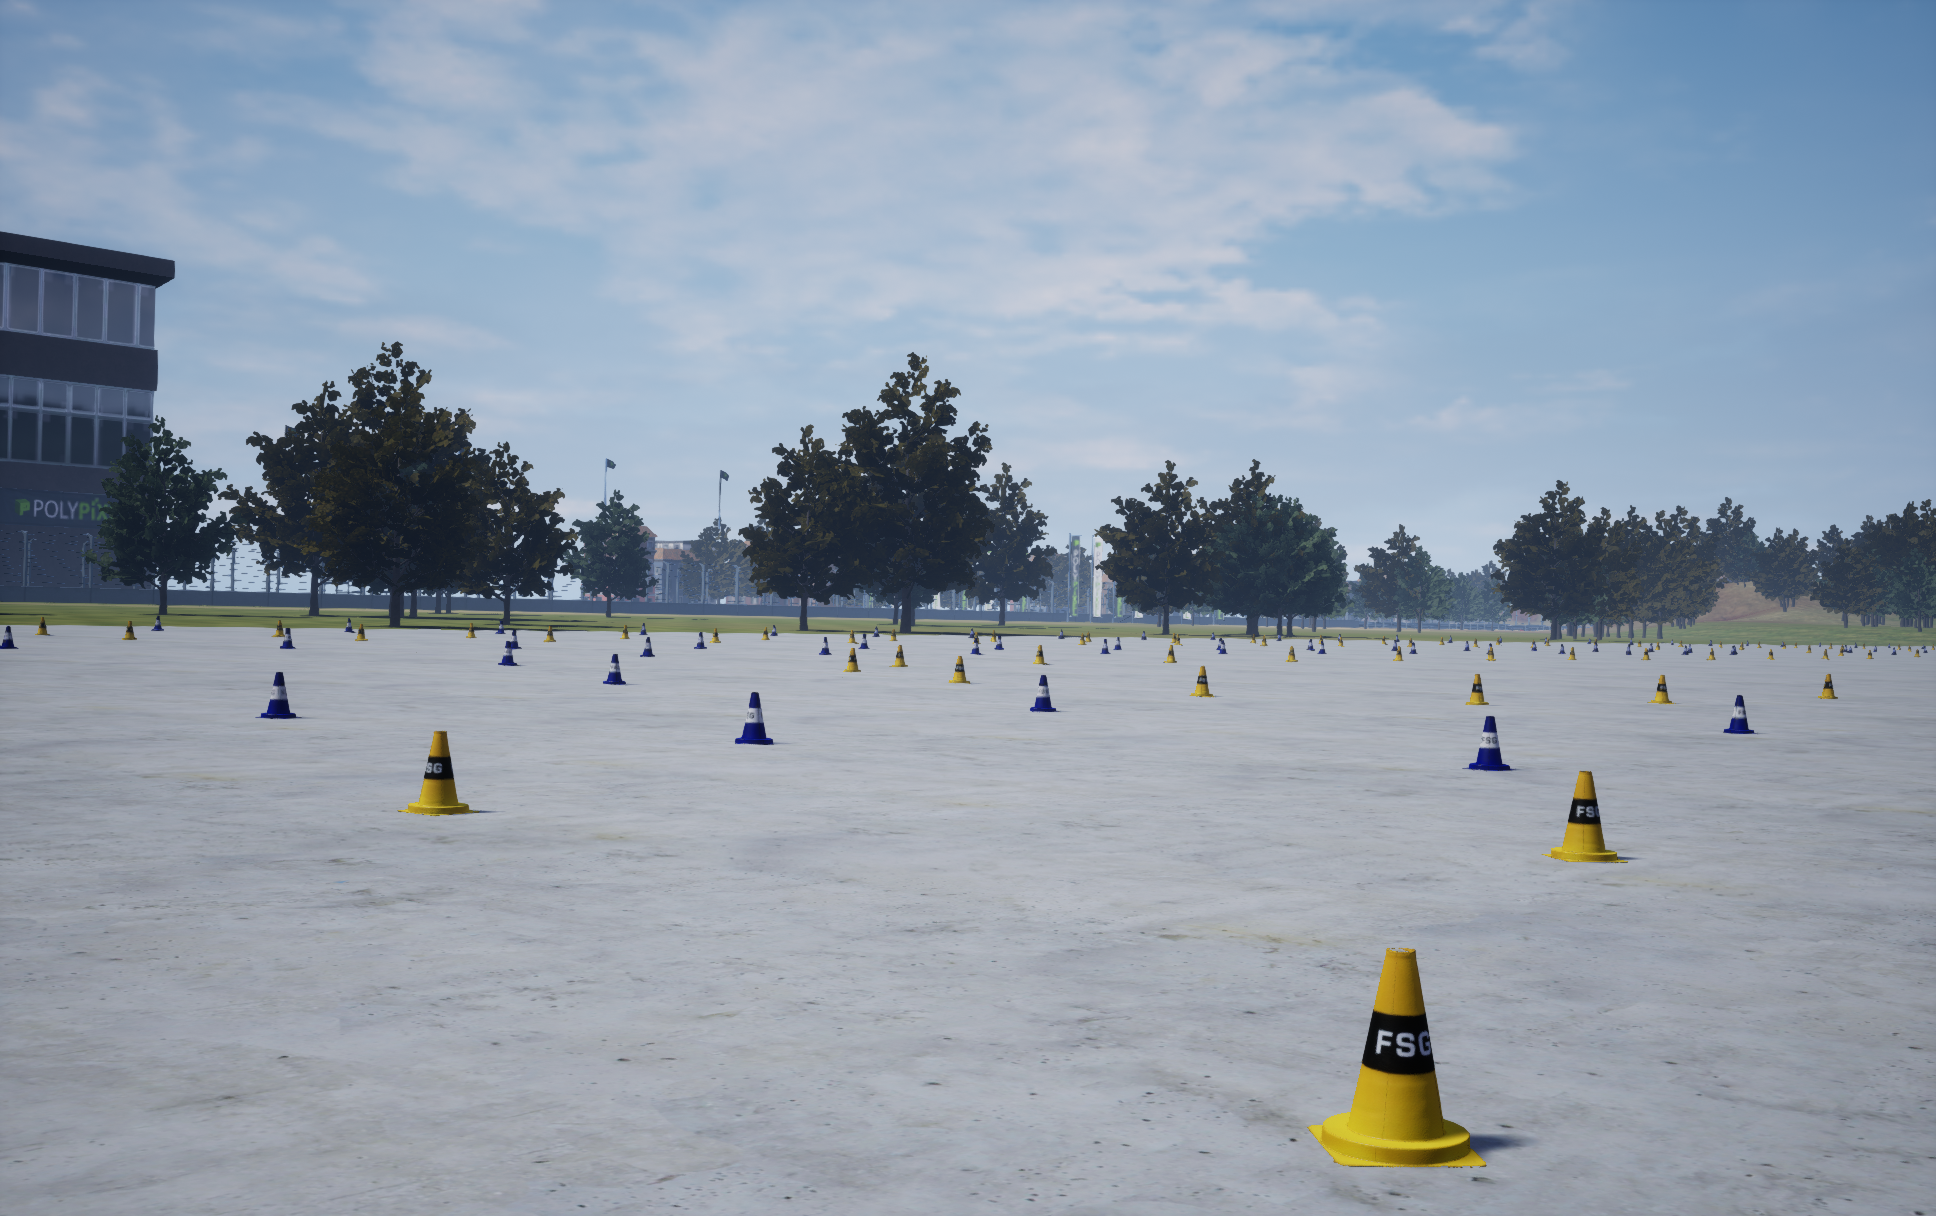blue: (1307, 948, 1486, 1167), (1541, 771, 1626, 862), (396, 731, 479, 815), (1647, 675, 1675, 703), (1189, 665, 1215, 696), (1465, 674, 1488, 705), (948, 656, 969, 684), (1818, 674, 1837, 698), (843, 649, 860, 671), (890, 644, 906, 665), (1032, 644, 1048, 664)
yellow: (1463, 716, 1514, 771), (255, 672, 301, 719), (735, 692, 773, 744), (1723, 695, 1757, 733), (1030, 675, 1059, 712), (602, 654, 625, 684), (497, 642, 518, 665), (0, 626, 18, 649), (280, 628, 296, 649), (640, 637, 654, 656), (510, 630, 521, 649), (820, 637, 831, 654)
